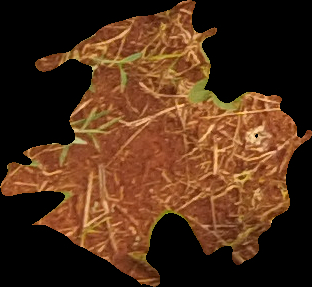soil: (2, 1, 312, 286)
